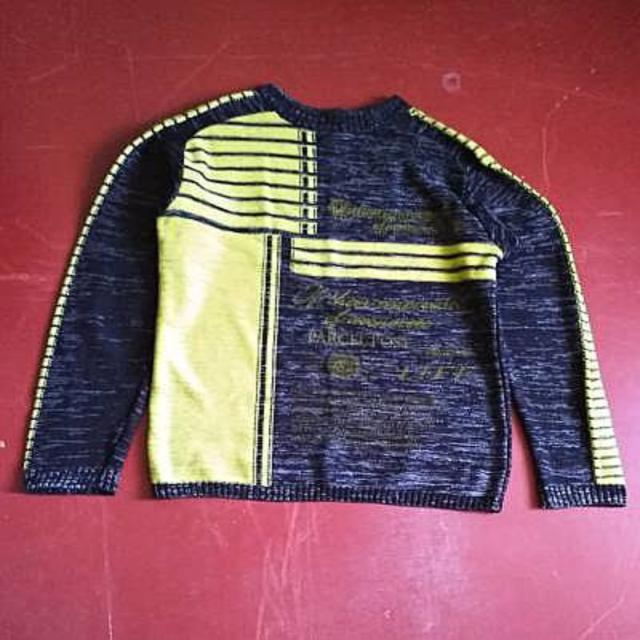T_SHIRT: (7, 76, 640, 522)
